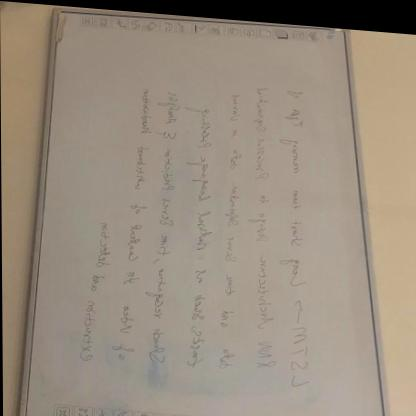Handwritten text: (104, 76, 160, 365), (278, 75, 323, 388), (141, 79, 187, 369), (246, 78, 282, 368), (62, 209, 122, 374), (214, 68, 245, 374), (184, 92, 215, 382)
Whiteboard: (21, 3, 397, 416)
